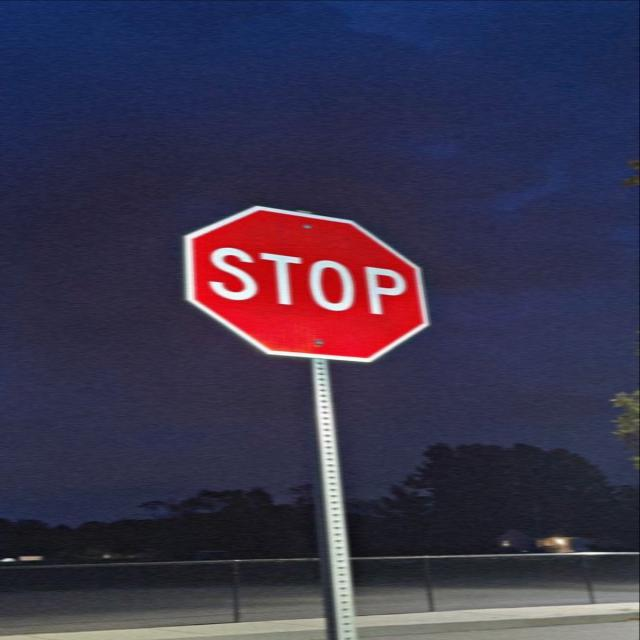stop: (182, 203, 430, 363)
